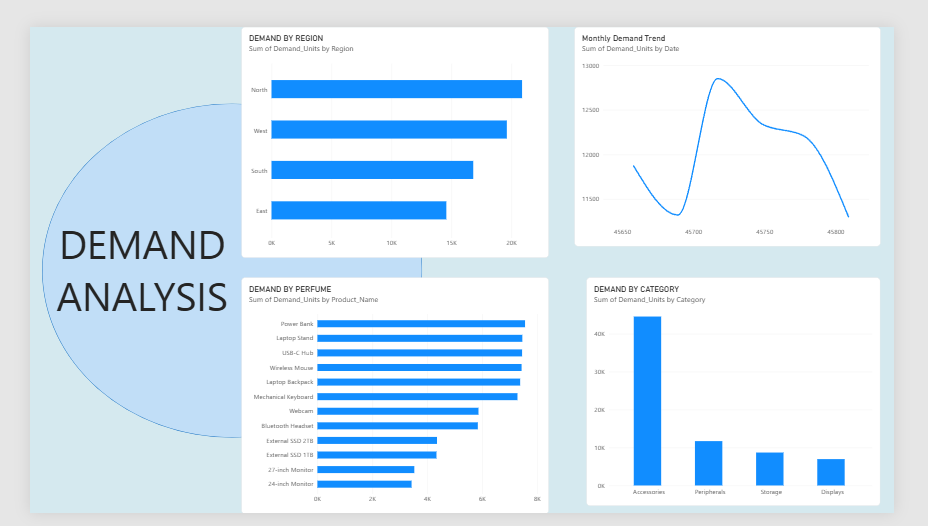

Layout of this report page (visuals, bound fields, positions):
{"tool":"powerbi","page":{"name":"Demand Analysis","canvas":[1920,1080],"ordinal":1},"visuals":[{"type":"lineChart","title":"Monthly Demand Trend","fields":{"Category":["Monthly_Demand.Date"],"Y":["Sum(Monthly_Demand.Demand_Units)"]},"box":[1210,0,680,487.5],"z":0},{"type":"clusteredColumnChart","title":"DEMAND BY CATEGORY","fields":{"Category":["Orders.Category"],"Y":["Sum(Orders.Demand_Units)"]},"box":[1237.5,555,652.5,507.5],"z":1000},{"type":"shape","box":[25,170,845,742.5],"z":2000},{"type":"clusteredBarChart","title":"DEMAND BY PERFUME","fields":{"Category":["Monthly_Demand.Product_Name"],"Y":["Sum(Monthly_Demand.Demand_Units)"]},"box":[470,555,682.5,525],"z":3000},{"type":"clusteredBarChart","title":"DEMAND BY REGION","fields":{"Category":["Orders.Region"],"Y":["Sum(Orders.Demand_Units)"]},"box":[470,0,682.5,512.5],"z":4000},{"type":"textbox","box":[25,420,445,660],"z":5000}]}

Visuals, with their boxes in screenshot pixels (x1, y1, x2, y2), scaled from the page's 1920x1080 canvas onto the 928x526 screenshot:
"Monthly Demand Trend" lineChart: left=585, top=0, right=914, bottom=237
"DEMAND BY CATEGORY" clusteredColumnChart: left=598, top=270, right=914, bottom=517
shape: left=12, top=83, right=420, bottom=444
"DEMAND BY PERFUME" clusteredBarChart: left=227, top=270, right=557, bottom=525
"DEMAND BY REGION" clusteredBarChart: left=227, top=0, right=557, bottom=250
textbox: left=12, top=205, right=227, bottom=525
